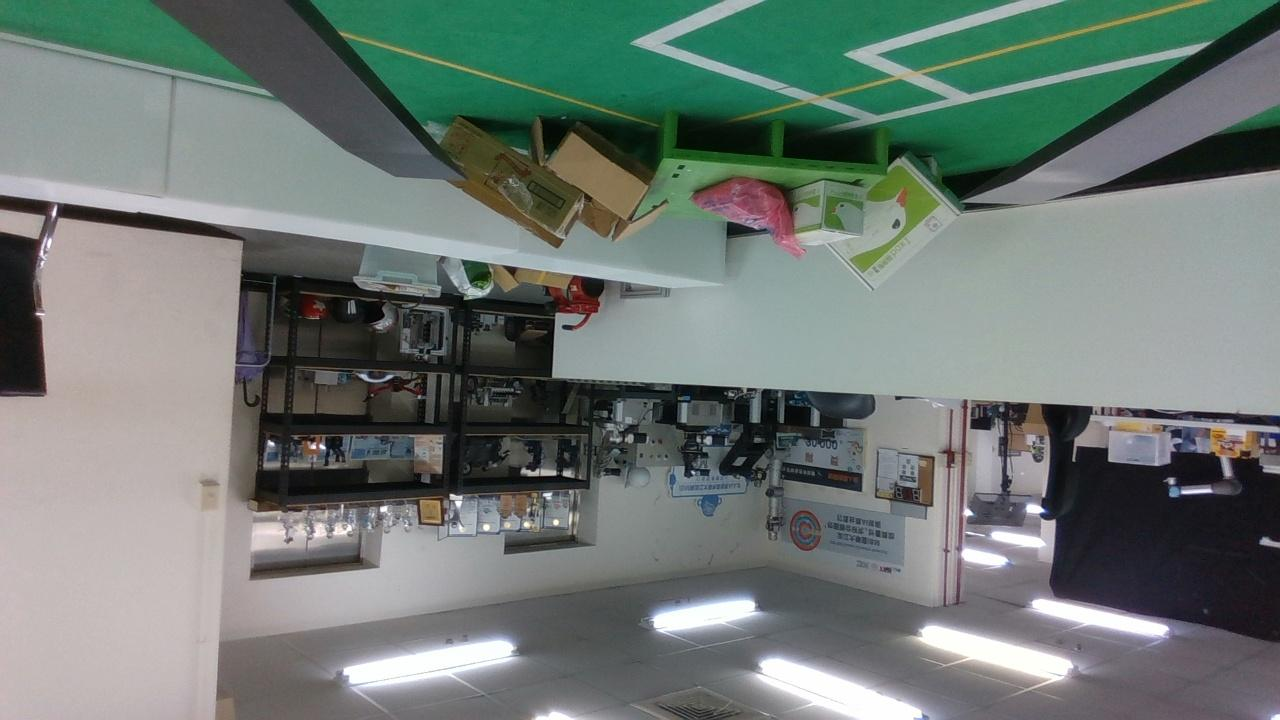Pallet: (661, 114, 888, 178)
